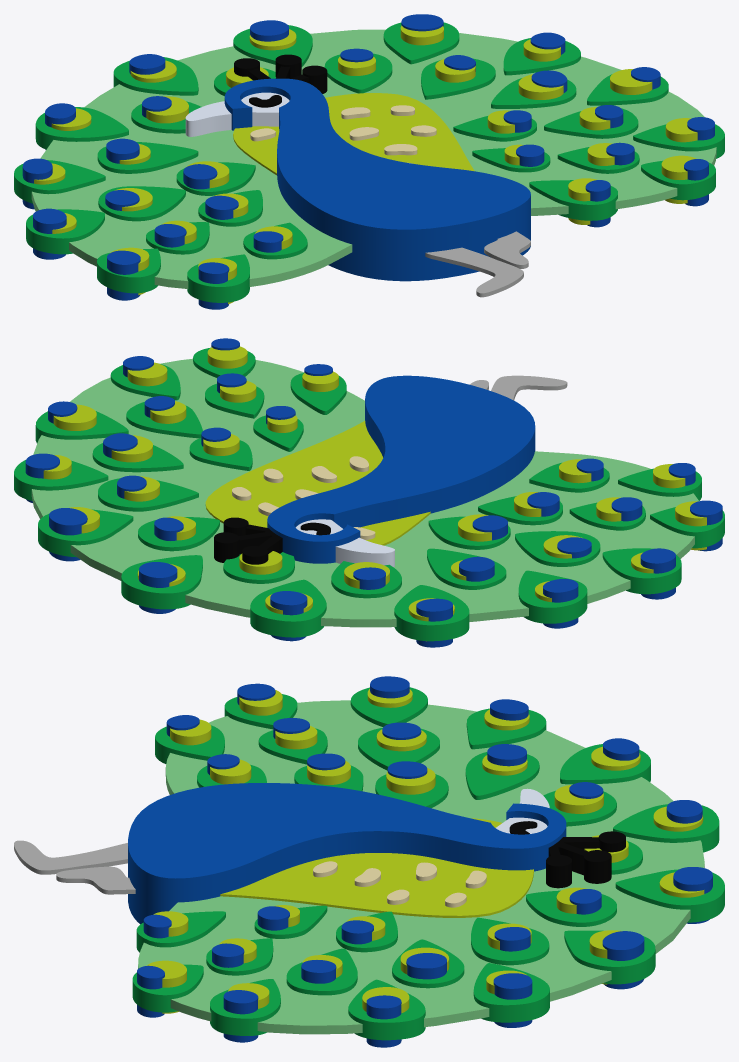
The model's file is emoji_u1f99a.glb.
The picture shows the model from 3 angles, top to bottom: view 1: azimuth 30°, elevation 25°; view 2: azimuth 150°, elevation 25°; view 3: azimuth 270°, elevation 25°; orthographic projection. The views are drawn at different scales.
Visible parts, largest first — view 1: emoji_u1f99a; view 2: emoji_u1f99a; view 3: emoji_u1f99a.
Part boxes in pixels (left/top/right/bottom): emoji_u1f99a: left=14, top=14, right=724, bottom=309; emoji_u1f99a: left=14, top=338, right=724, bottom=647; emoji_u1f99a: left=14, top=676, right=724, bottom=1047.
Bounding box in the file's own units: 0.0333 × 0.0026 × 0.0296.
